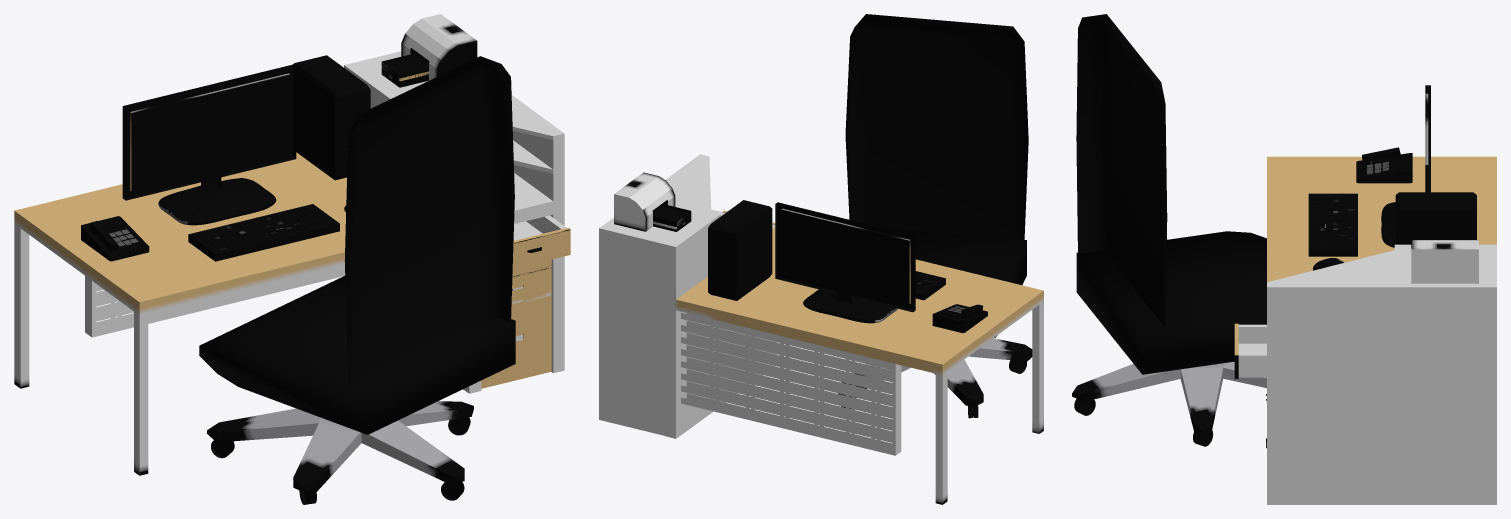
File: DoctorSet.fbx
The picture shows the model from 3 angles, left to right: view 1: azimuth 30°, elevation 25°; view 2: azimuth 150°, elevation 25°; view 3: azimuth 270°, elevation 25°; orthographic projection. The views are drawn at different scales.
Parts seen in each view (by area): view 1: Cylinder.008; view 2: Cylinder.008; view 3: Cylinder.008.
Part boxes in pixels (bbox=[...]): Cylinder.008: bbox=[14, 14, 570, 504]; Cylinder.008: bbox=[599, 14, 1043, 504]; Cylinder.008: bbox=[1072, 14, 1496, 504].
Bounding box in the file's own units: 210 × 187 × 199.
1 material, 1 textured.
